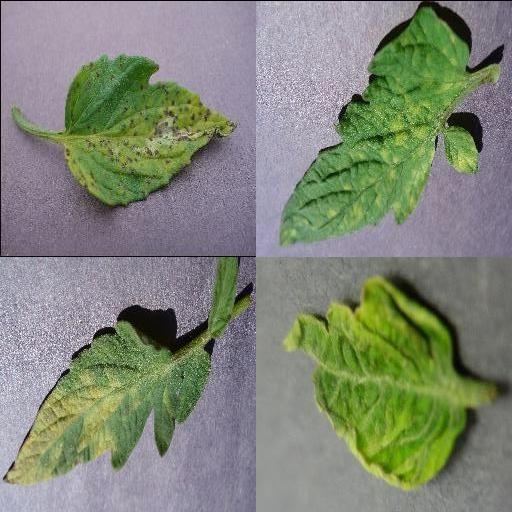Leaf Mold: (276, 6, 482, 248), (4, 318, 210, 482)
Septoria: (63, 54, 237, 206)
Yellow Leaf Curl Virus: (284, 274, 470, 490)
